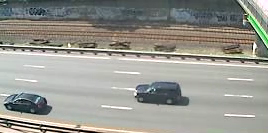car: (133, 80, 186, 105), (2, 92, 50, 116)
